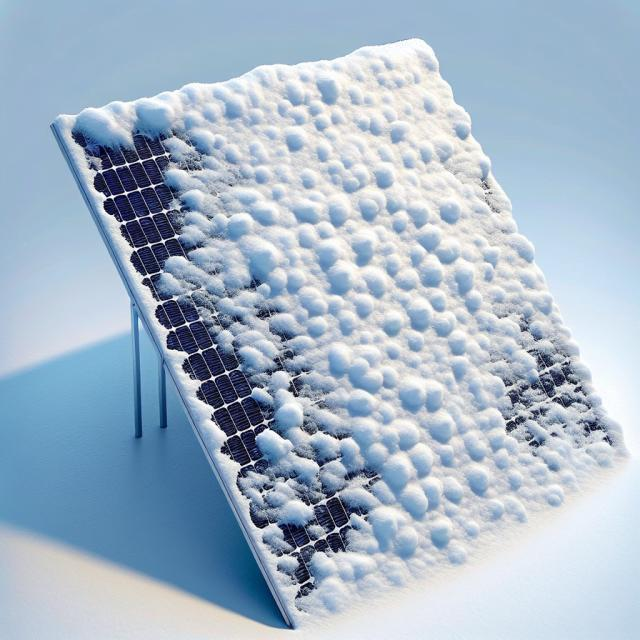Anomaly Solar Panel: (51, 38, 629, 625)
Snow: (57, 42, 627, 619)
